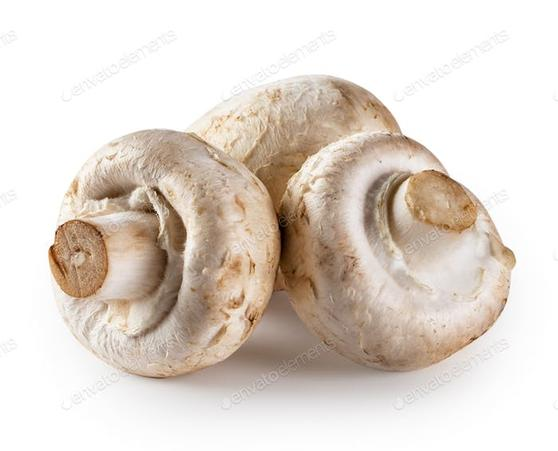champignon: (274, 134, 520, 379), (45, 131, 281, 377)
